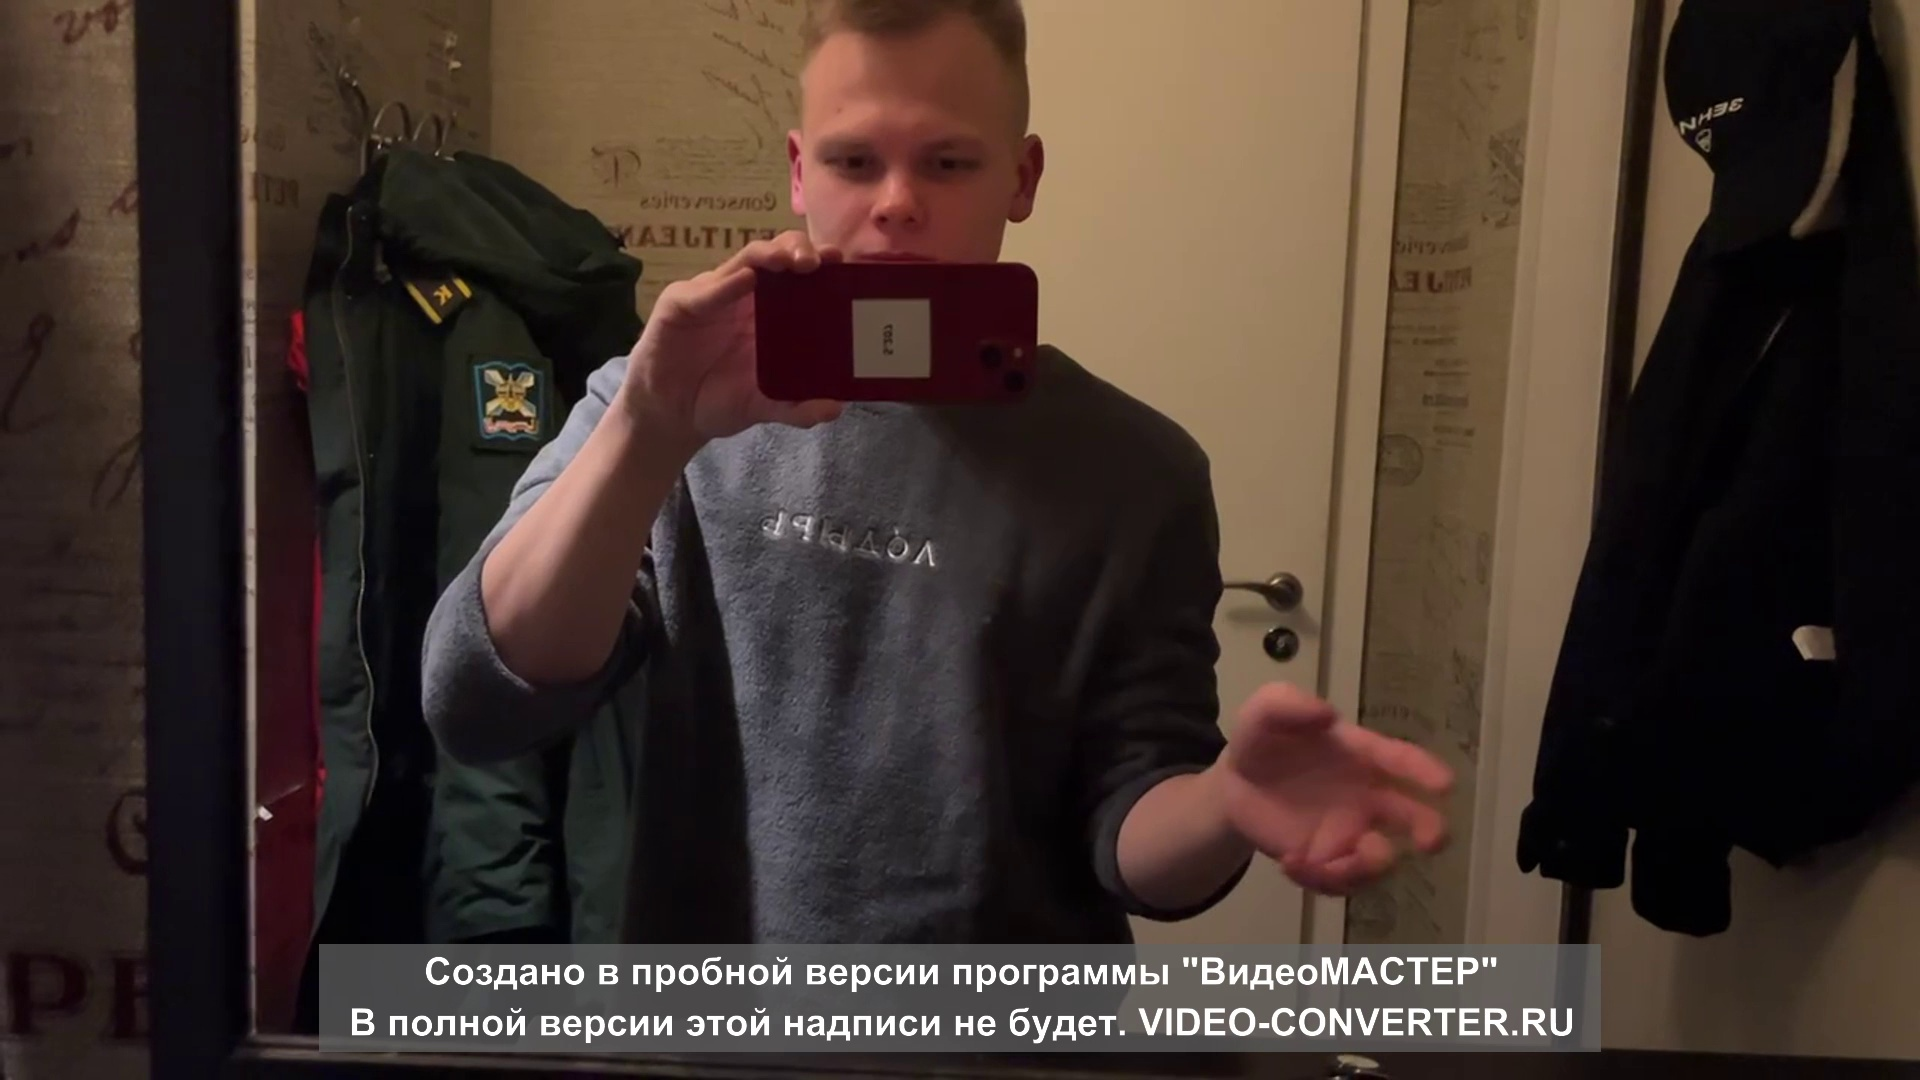Ладонь: (1230, 678, 1455, 895)
